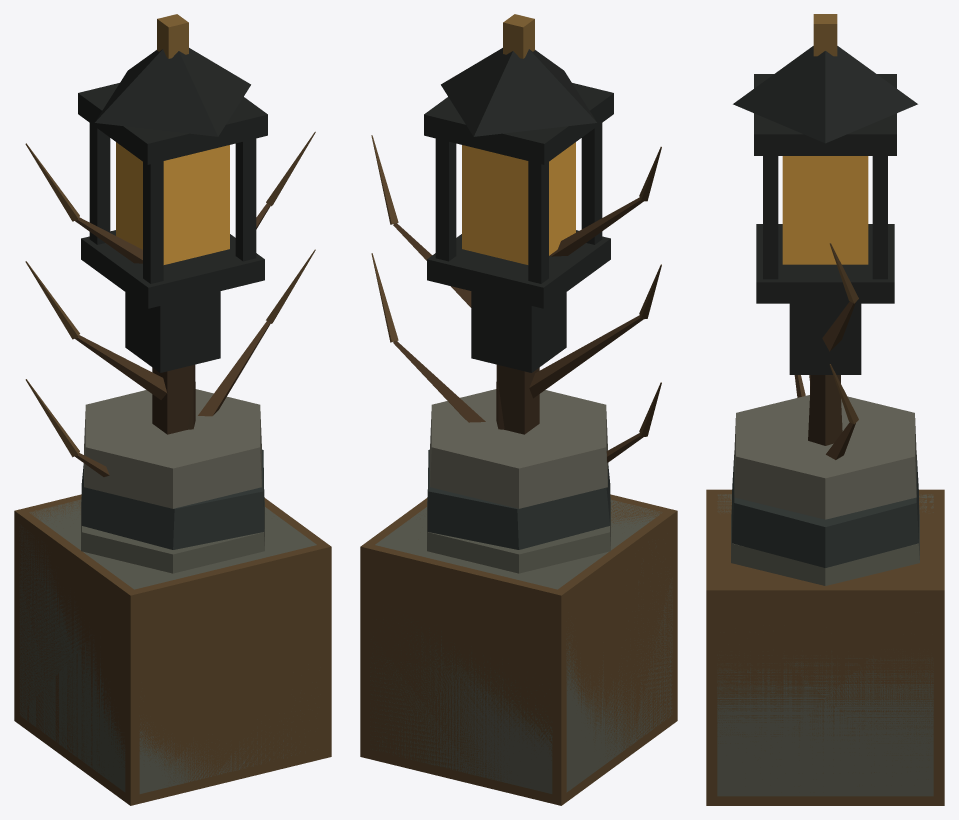
File: hollow-kit.glb
3 views of the same model, side by side, from view 1: azimuth 30°, elevation 25°; view 2: azimuth 150°, elevation 25°; view 3: azimuth 270°, elevation 25° (orthographic). The views are drawn at different scales.
Visible parts, largest first — view 1: timber, beacon, column, stone, thorn; view 2: timber, beacon, column, stone, thorn; view 3: timber, beacon, column, stone, thorn.
Boxes of the visible parts, bbox=[...] form: timber: bbox=[14, 494, 331, 805]; beacon: bbox=[78, 14, 267, 434]; column: bbox=[81, 389, 264, 573]; stone: bbox=[19, 499, 316, 793]; thorn: bbox=[25, 131, 315, 476]; timber: bbox=[360, 494, 677, 805]; beacon: bbox=[424, 14, 613, 434]; column: bbox=[427, 389, 610, 573]; stone: bbox=[370, 499, 672, 793]; thorn: bbox=[371, 135, 661, 462]; timber: bbox=[706, 489, 944, 805]; beacon: bbox=[733, 14, 917, 395]; column: bbox=[731, 395, 919, 585]; stone: bbox=[717, 494, 933, 796]; thorn: bbox=[794, 243, 858, 459].
Bounding box in the file's own units: 1.45 × 3.41 × 1.
